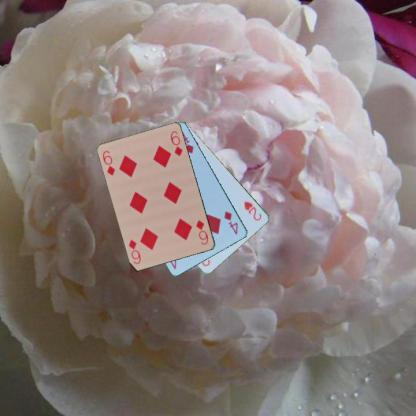2h: (241, 199, 263, 222)
4d: (221, 208, 239, 236)
6d: (100, 148, 117, 177), (194, 217, 210, 246)
